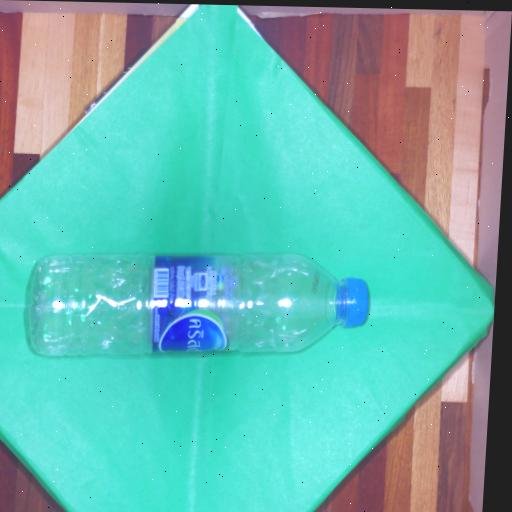bottle: (1, 232, 384, 371)
